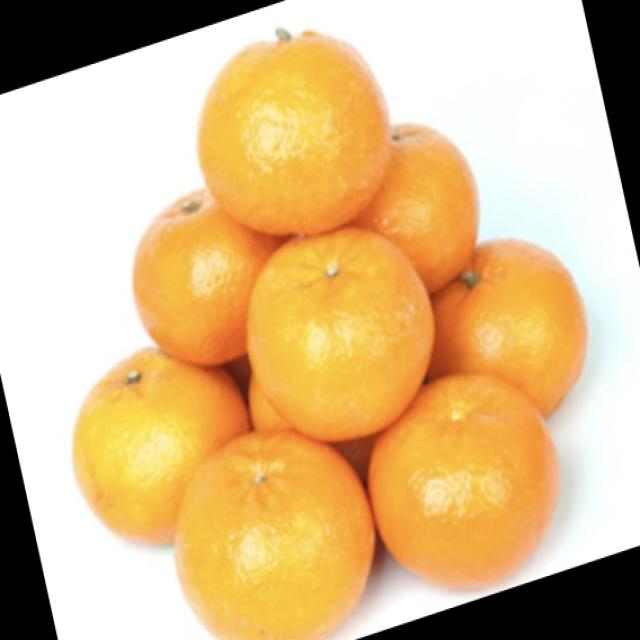fresh: (62, 12, 579, 634)
